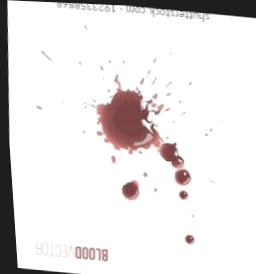Fire: (94, 74, 163, 154), (157, 142, 182, 168), (119, 179, 136, 200), (172, 167, 189, 184), (182, 233, 192, 244), (176, 188, 186, 198)
